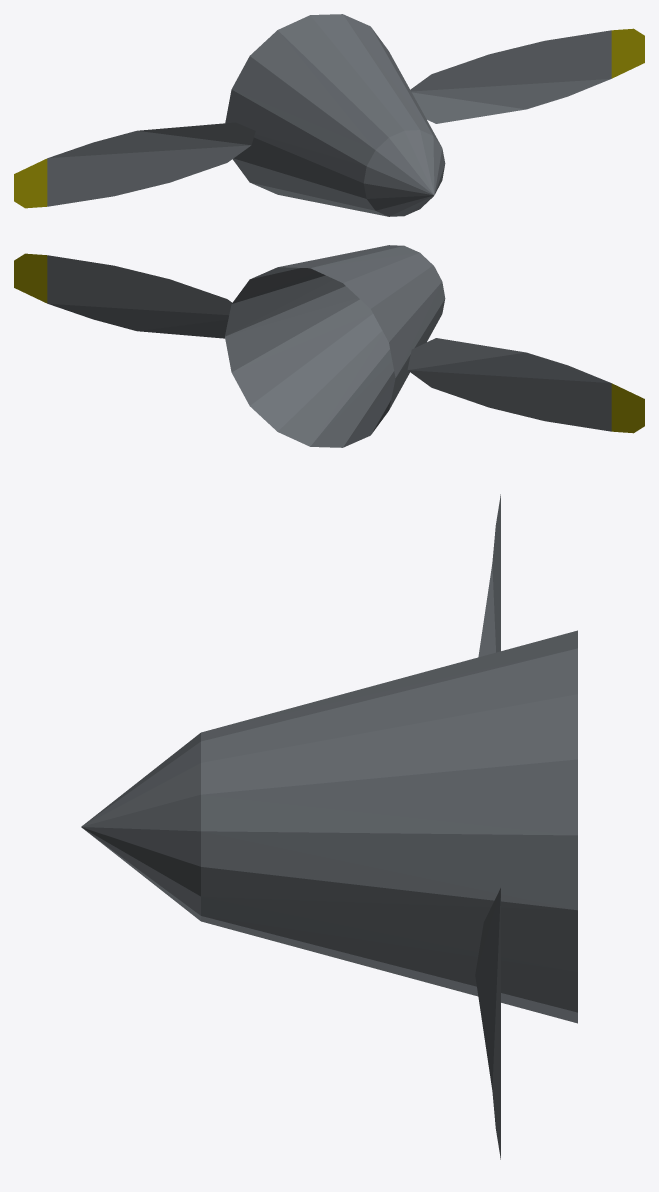
The model's file is Prop_RQ1.obj.
3 renders of one model, top to bottom at view 1: azimuth 30°, elevation 25°; view 2: azimuth 150°, elevation 25°; view 3: azimuth 270°, elevation 25°, orthographic. The views are drawn at different scales.
Parts seen in each view (by area): view 1: ShapeIndexedFaceSet.054_ShapeIndexedFaceSet.055, ShapeIndexedFaceSet.055_ShapeIndexedFaceSet.056, ShapeIndexedFaceSet.056_ShapeIndexedFaceSet.057; view 2: ShapeIndexedFaceSet.054_ShapeIndexedFaceSet.055, ShapeIndexedFaceSet.055_ShapeIndexedFaceSet.056, ShapeIndexedFaceSet.056_ShapeIndexedFaceSet.057; view 3: ShapeIndexedFaceSet.054_ShapeIndexedFaceSet.055, ShapeIndexedFaceSet.055_ShapeIndexedFaceSet.056.
Boxes of the visible parts, x1,y1,x2,y2 form: ShapeIndexedFaceSet.054_ShapeIndexedFaceSet.055: [225, 14, 445, 216]; ShapeIndexedFaceSet.055_ShapeIndexedFaceSet.056: [47, 30, 611, 206]; ShapeIndexedFaceSet.056_ShapeIndexedFaceSet.057: [14, 28, 644, 208]; ShapeIndexedFaceSet.054_ShapeIndexedFaceSet.055: [225, 245, 445, 447]; ShapeIndexedFaceSet.055_ShapeIndexedFaceSet.056: [47, 255, 611, 431]; ShapeIndexedFaceSet.056_ShapeIndexedFaceSet.057: [14, 253, 644, 433]; ShapeIndexedFaceSet.054_ShapeIndexedFaceSet.055: [81, 630, 577, 1023]; ShapeIndexedFaceSet.055_ShapeIndexedFaceSet.056: [475, 494, 500, 1159].
Size of the model in its own units: 17 by 4.6 by 5.8.
